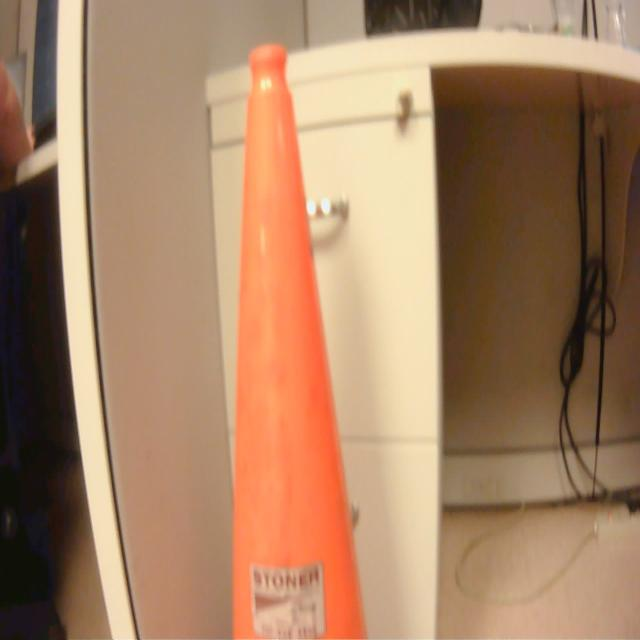traffic cone: (220, 27, 389, 640)
